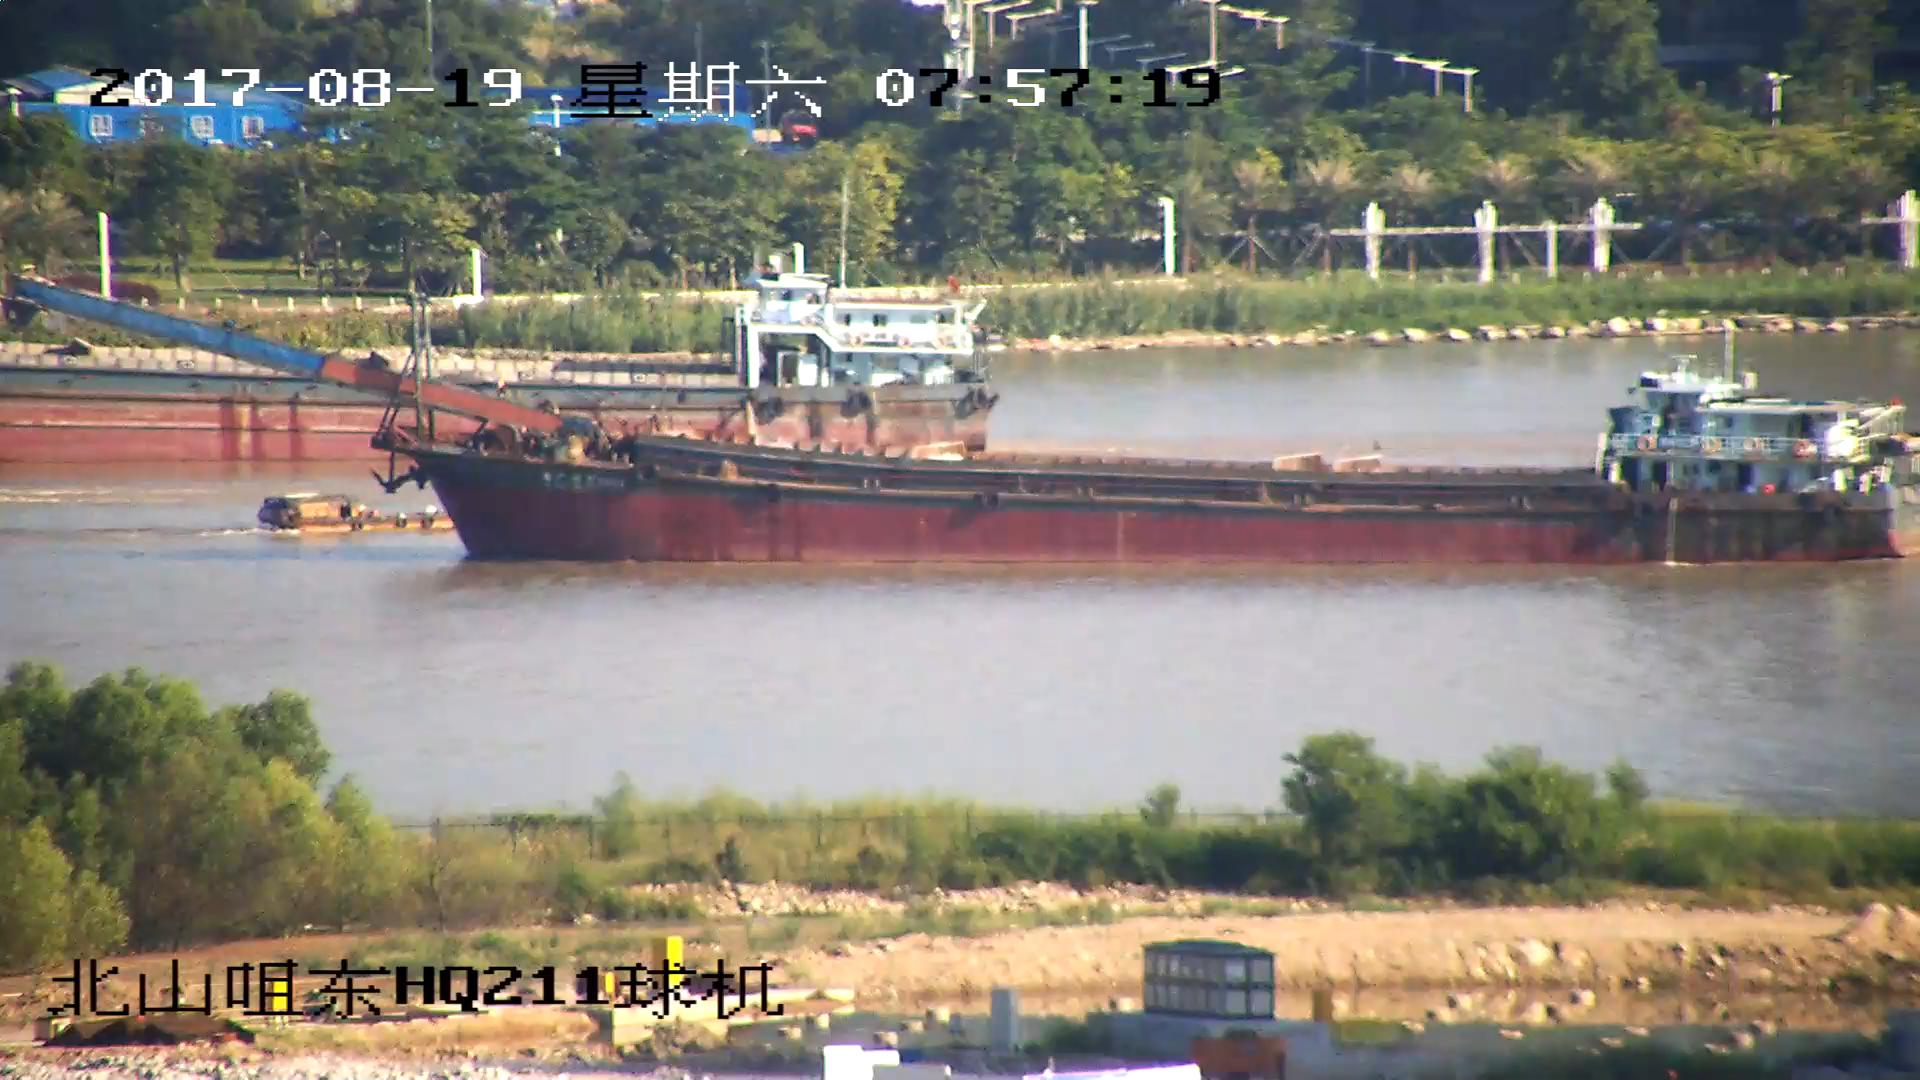bulk cargo carrier: (13, 271, 1920, 570), (1, 272, 989, 455)
fishing boat: (259, 490, 444, 542)
